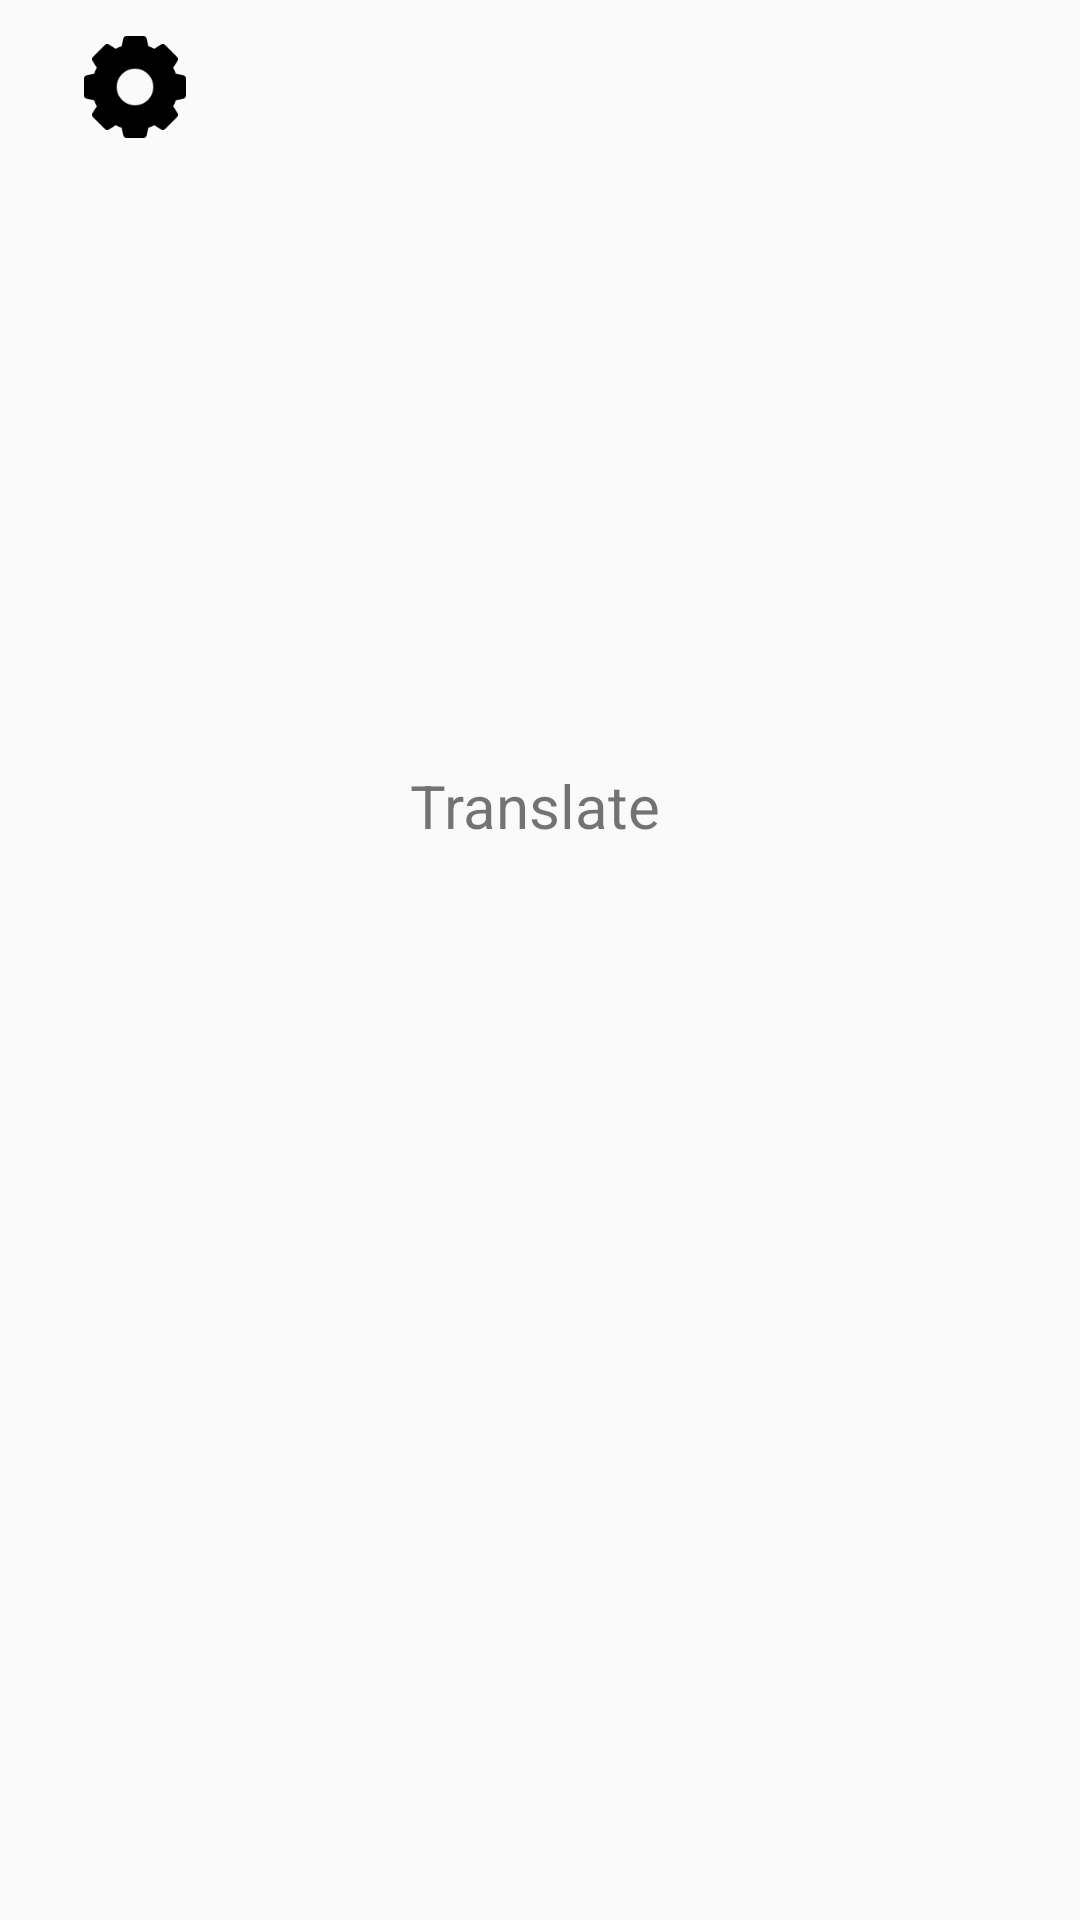

Where to tap for icons on this 1080*1920 app screen, as [x,y]:
gear: [135,87]
